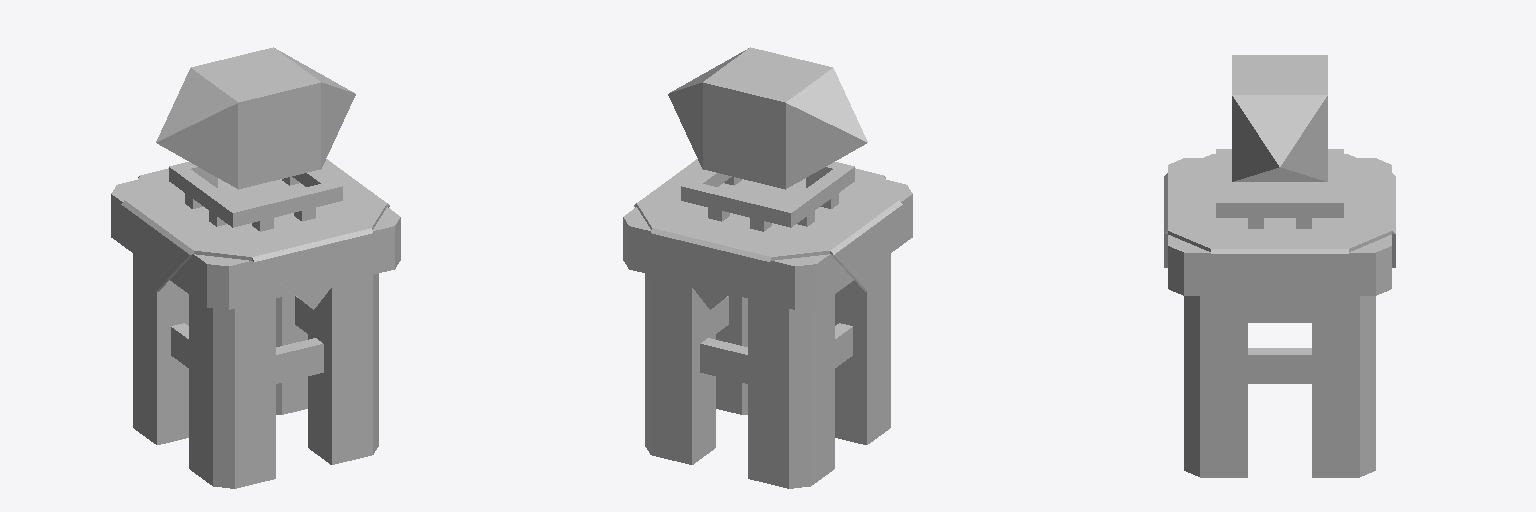
File: occulus_inventory.obj
3 views of the same model, side by side, from view 1: azimuth 30°, elevation 25°; view 2: azimuth 150°, elevation 25°; view 3: azimuth 270°, elevation 25° (orthographic).
Parts seen in each view (by area): view 1: TABLE_LEGS, OCCULUS, TABLECLOTH, TABLE_TOP, HOLDER_HOLDER_Cube.002; view 2: TABLE_LEGS, OCCULUS, TABLECLOTH, TABLE_TOP, HOLDER_HOLDER_Cube.002; view 3: TABLE_LEGS, TABLECLOTH, OCCULUS, TABLE_TOP, HOLDER_HOLDER_Cube.002.
Boxes of the visible parts, box(x1,y1,x2,y2) form: TABLE_LEGS: box(133, 254, 378, 488); OCCULUS: box(156, 47, 355, 189); TABLECLOTH: box(121, 159, 389, 309); TABLE_TOP: box(111, 180, 400, 309); HOLDER_HOLDER_Cube.002: box(169, 162, 342, 231); TABLE_LEGS: box(645, 254, 890, 488); OCCULUS: box(668, 47, 867, 189); TABLECLOTH: box(634, 159, 902, 309); TABLE_TOP: box(623, 180, 912, 309); HOLDER_HOLDER_Cube.002: box(681, 162, 854, 231); TABLE_LEGS: box(1184, 296, 1375, 477); TABLECLOTH: box(1164, 154, 1395, 315); OCCULUS: box(1232, 55, 1327, 181); TABLE_TOP: box(1168, 158, 1391, 295); HOLDER_HOLDER_Cube.002: box(1216, 149, 1343, 228).
Bounding box in the file's own units: 0.9062 × 1.56 × 0.9062.